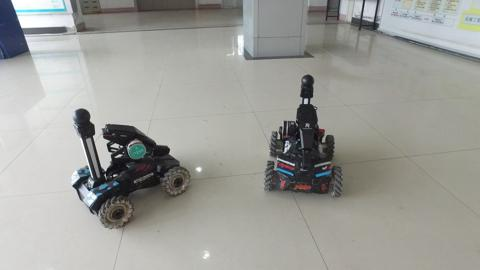chariot: (61, 104, 194, 233), (255, 72, 350, 206)
